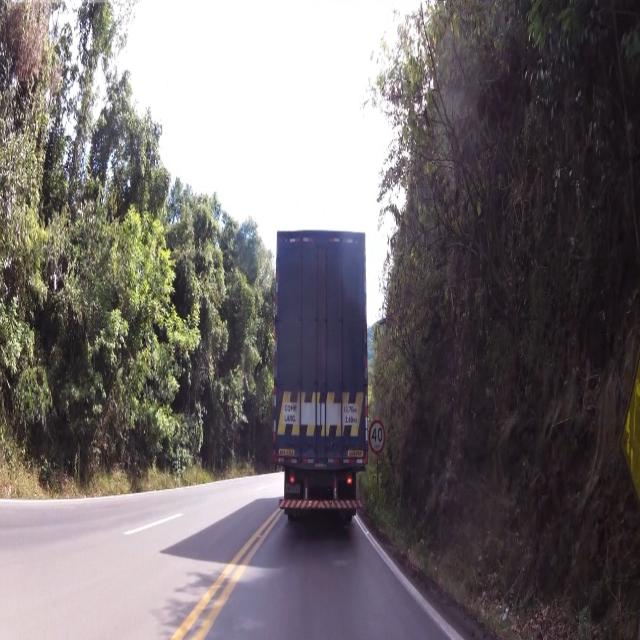R-19: (369, 418, 385, 452)
